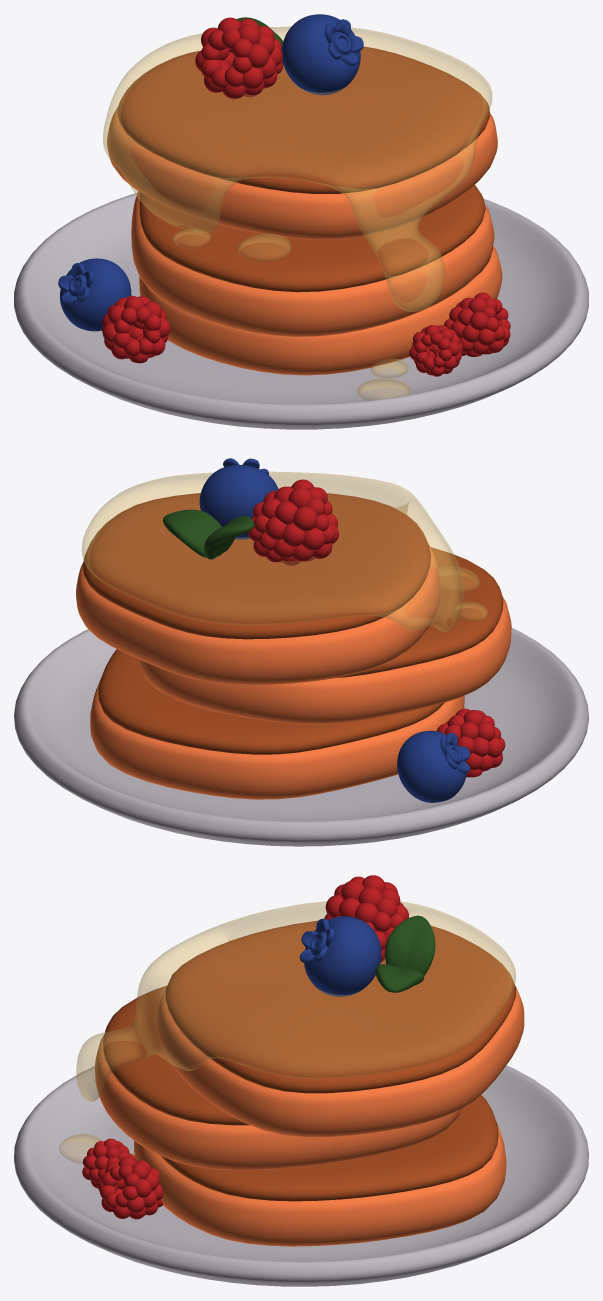
3 views of the same model, one above another, from view 1: azimuth 30°, elevation 25°; view 2: azimuth 150°, elevation 25°; view 3: azimuth 270°, elevation 25° (orthographic).
Visible parts, largest first — view 1: Circle.116, Circle.109, Circle.115, Circle.114, Circle.113, Circle.112, Circle.110, Sphere.053, Sphere.078, Sphere.055, Sphere.050, Sphere.051 (+1 smaller); view 2: Circle.109, Circle.116, Circle.115, Circle.114, Circle.110, Circle.112, Circle.111, Circle.113, Sphere.053, Sphere.050, Sphere.078, Sphere.055 (+2 smaller); view 3: Circle.116, Circle.109, Circle.115, Circle.114, Circle.110, Circle.112, Circle.111, Circle.113, Sphere.078, Sphere.053, Sphere.051, Plane.070 (+2 smaller).
Boxes of the visible parts, box(x1,y1,x2,y2) form: Circle.116: box(103, 26, 491, 400); Circle.109: box(14, 193, 588, 429); Circle.115: box(117, 46, 490, 193); Circle.114: box(107, 106, 497, 239); Circle.113: box(139, 185, 485, 292); Circle.112: box(131, 191, 494, 336); Circle.110: box(139, 245, 502, 375); Sphere.053: box(195, 17, 282, 99); Sphere.078: box(282, 14, 363, 95); Sphere.055: box(102, 295, 170, 363); Sphere.050: box(58, 258, 131, 331); Sphere.051: box(444, 292, 510, 356); Circle.109: box(14, 628, 588, 846); Circle.116: box(82, 472, 487, 631); Circle.115: box(82, 493, 430, 639); Circle.114: box(76, 544, 440, 684); Circle.110: box(90, 679, 464, 799); Circle.112: box(137, 596, 511, 724); Circle.111: box(98, 649, 444, 754); Circle.113: box(338, 547, 503, 677); Sphere.053: box(247, 479, 338, 565); Sphere.050: box(397, 730, 470, 802); Sphere.078: box(199, 458, 278, 539); Sphere.055: box(437, 708, 505, 777); Circle.116: box(59, 901, 515, 1163); Circle.109: box(14, 1065, 588, 1286); Circle.115: box(165, 920, 515, 1093); Circle.114: box(157, 987, 524, 1137); Circle.110: box(134, 1123, 506, 1246); Circle.112: box(95, 1035, 461, 1170); Circle.111: box(160, 1095, 498, 1201); Circle.113: box(103, 986, 249, 1125); Sphere.078: box(299, 916, 381, 996); Sphere.053: box(324, 875, 408, 962); Sphere.051: box(98, 1156, 162, 1219); Plane.070: box(385, 915, 435, 975).
Bounding box in the file's own units: 3.31 × 1.87 × 3.31.
